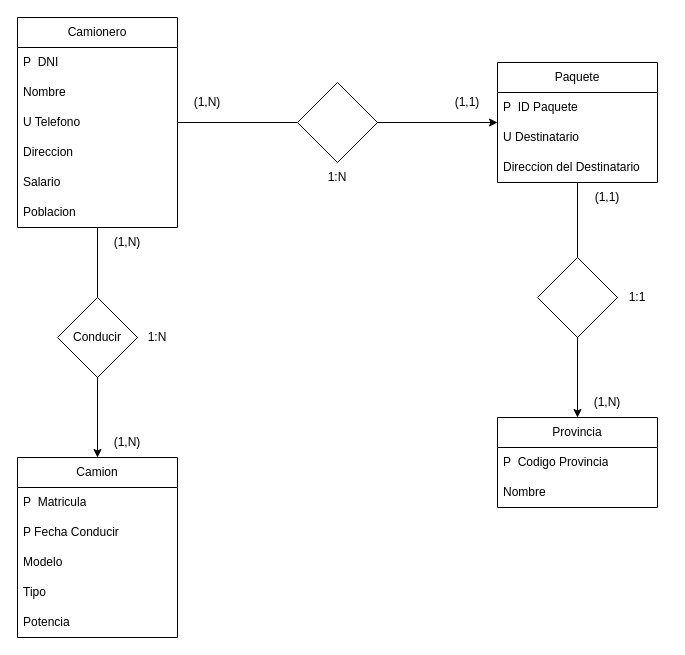
Image size: 685x655. Some labels were removed from this diagram. Here are the shapes that lost their labels. From the top down, the centre of each, then its label:
point (337, 122): Distribuye
point (577, 297): Llegar
